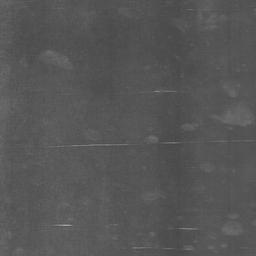Waist folding: (54, 201, 256, 252), (50, 108, 256, 149), (168, 3, 218, 32), (0, 48, 81, 63), (0, 4, 107, 12), (140, 88, 185, 95), (200, 168, 236, 174), (0, 244, 24, 252), (242, 63, 256, 67), (0, 107, 14, 111)
